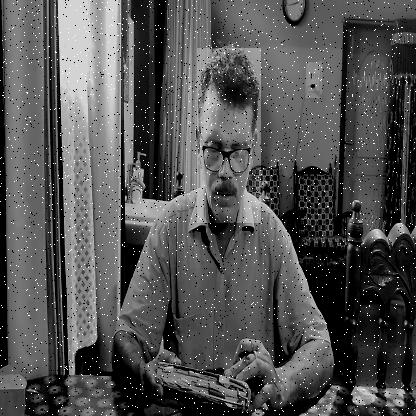Normal: (197, 48, 261, 223)
